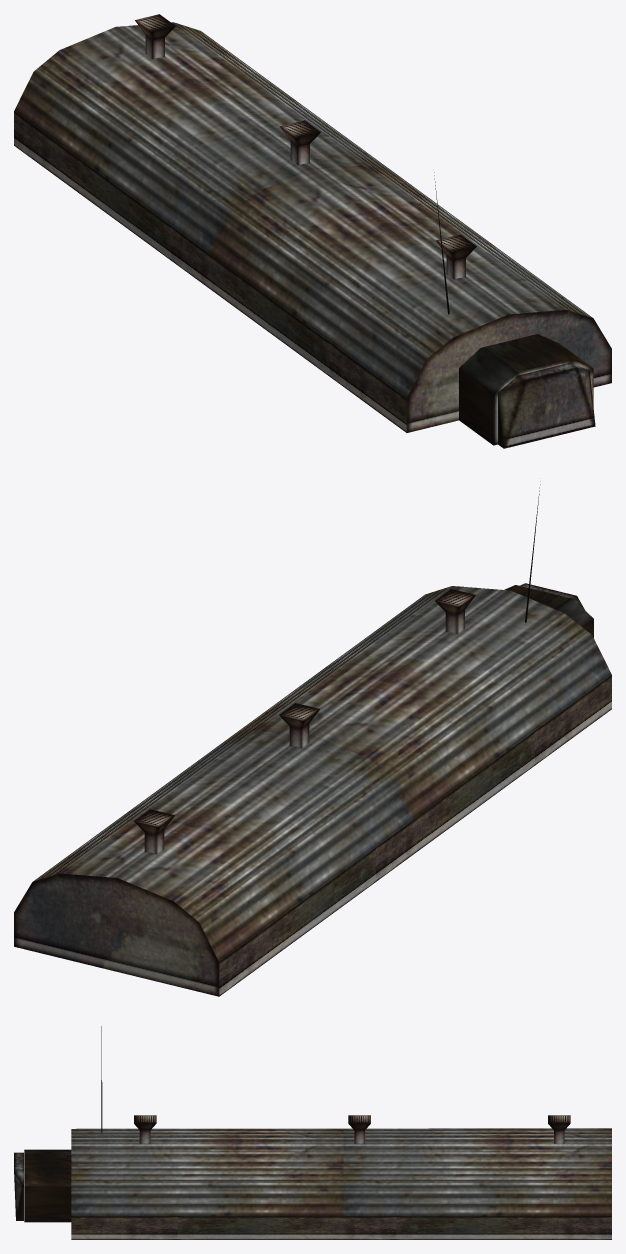
Rendered from hangar.obj.
3 renders of one model, top to bottom at view 1: azimuth 30°, elevation 25°; view 2: azimuth 150°, elevation 25°; view 3: azimuth 270°, elevation 25°, orthographic. The views are drawn at different scales.
Visible parts, largest first — view 1: Hangar; view 2: Hangar; view 3: Hangar.
Part boxes in pixels (box(x1,y1,x2,y2)): Hangar: box(14, 14, 611, 448); Hangar: box(14, 481, 611, 996); Hangar: box(14, 1026, 611, 1239).
Bounding box in the file's own units: 27.27 × 30.01 × 100.
Materials: 1 (1 with a texture image).
